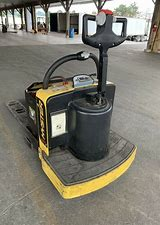Bins: (68, 27, 75, 38)
Pallet Jack: (5, 9, 139, 200)
